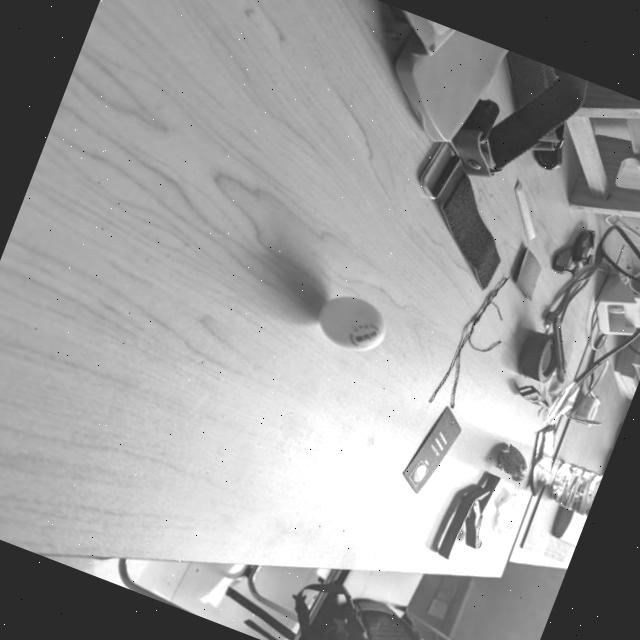ping-pong-ball: (310, 286, 394, 358)
